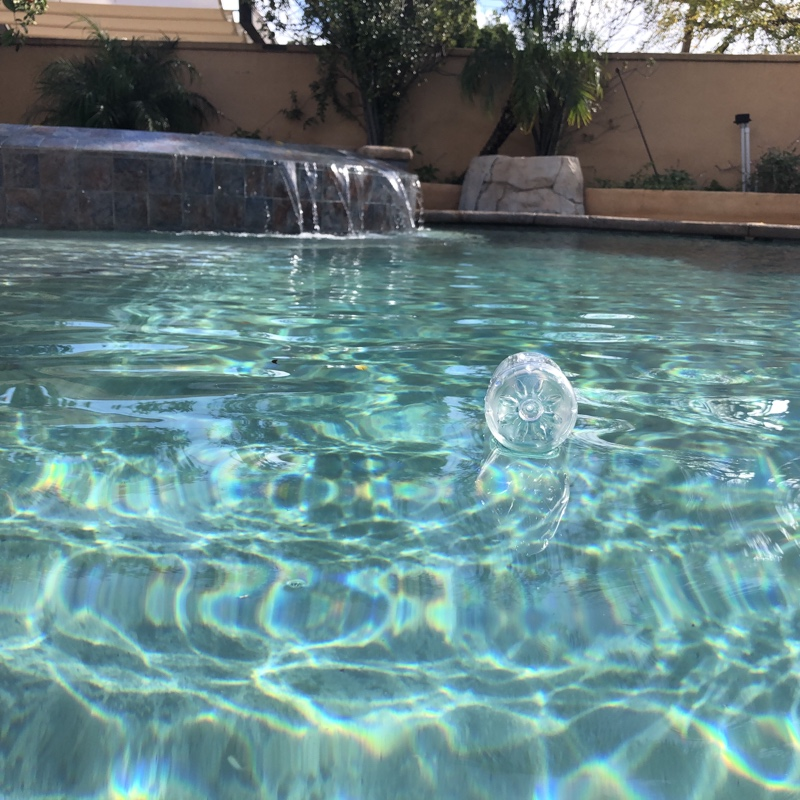Plastic Bottle: (478, 345, 580, 463)
